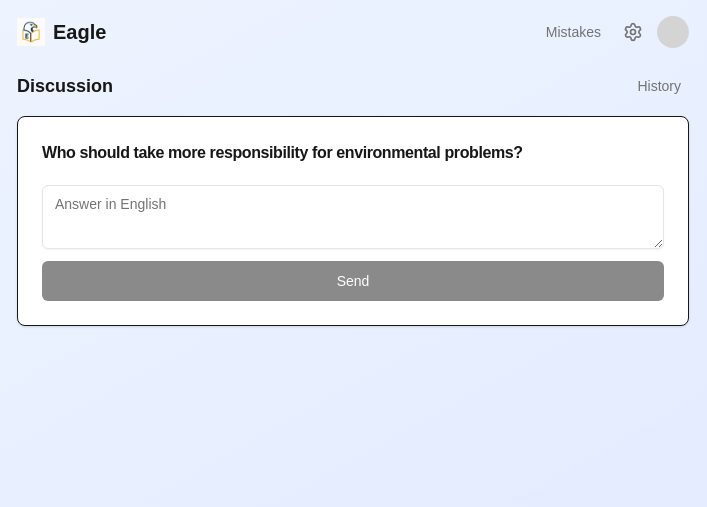
DiscussionSession › recovers via Send (not just Try Again) without creating consecutive user turns
This screenshot has width=707, height=507.
Expected: the heading "Who should take more responsibility for environmental problems?" is shown, [42,144,523,161]
Type "I think companies." into the text box named "Your answer" at [353, 217], box [42,185,664,249]
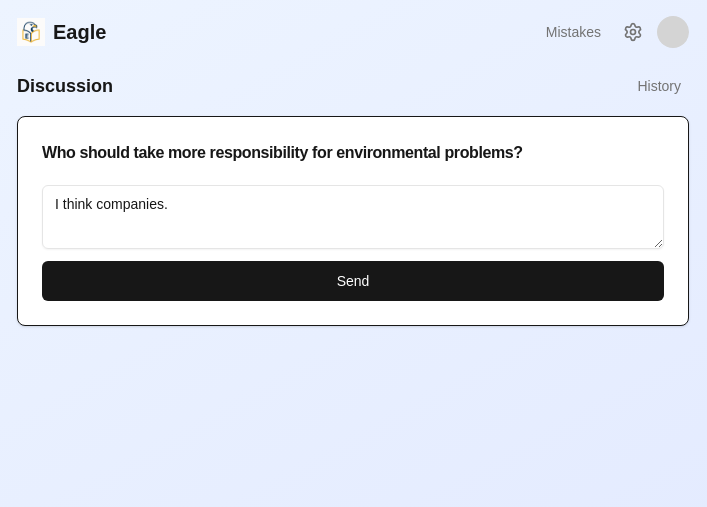
Click the button "Send" at [353, 281], box [42,261,664,301]
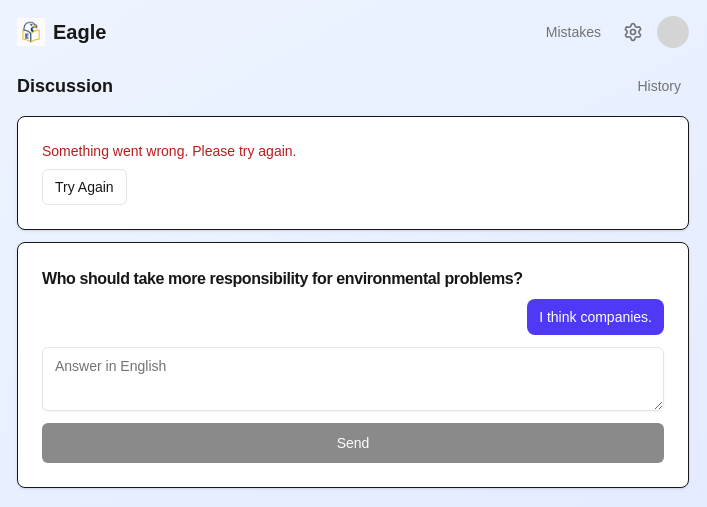
Expected: the text "Something went wrong. Please try again." is shown, [42,143,296,159]
Type "I think companies, actually." into the text box named "Your answer" at [353, 379], box [42,347,664,411]
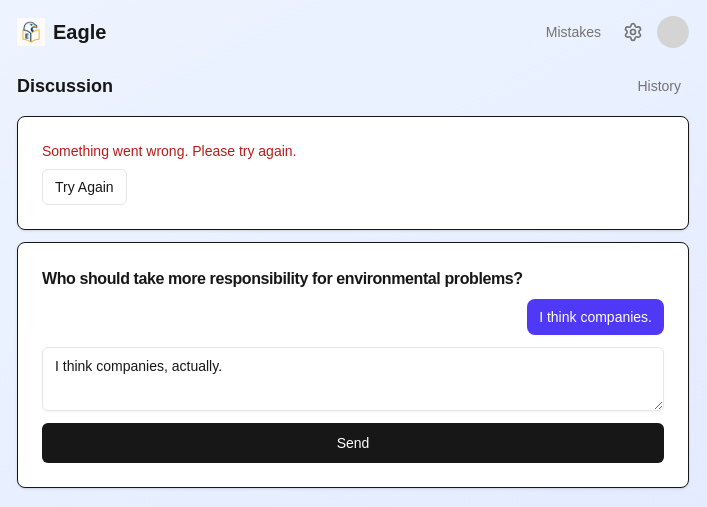
Click the button "Send" at [353, 443], box [42,423,664,463]
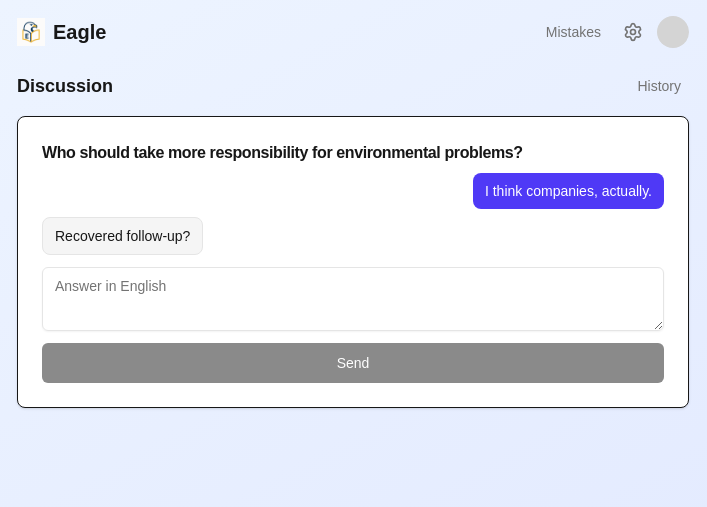
Expected: the text "Recovered follow-up?" is shown, [42,217,203,255]
